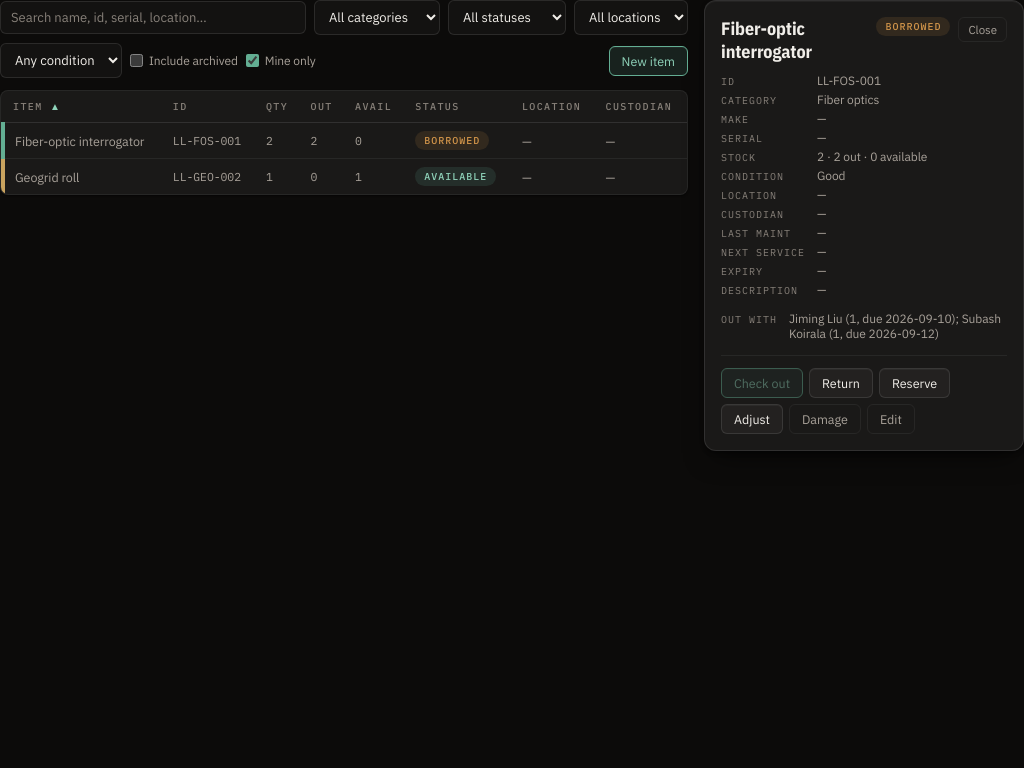
Test: Return (items drawer) › flag on: a member is offered only their own loan
This screenshot has width=1024, height=768.
Click the button "Return".
click(841, 383)  # box left=809, top=368, right=873, bottom=398
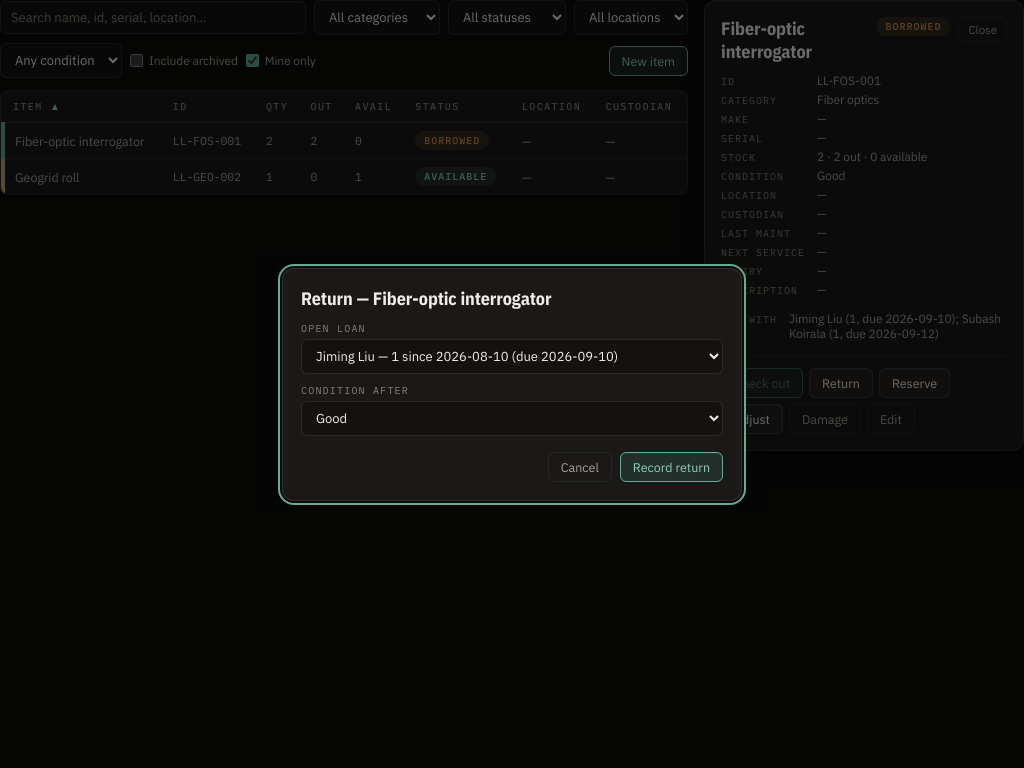
Result: the button "Record return" is shown at left=620, top=452, right=723, bottom=482
